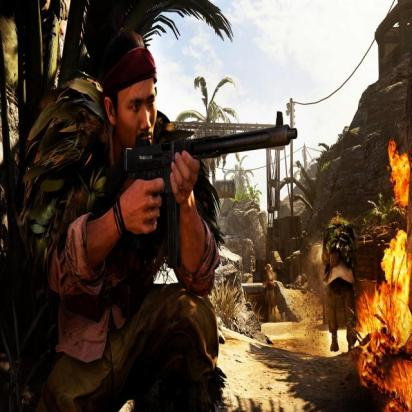Gun: (94, 114, 304, 210)
